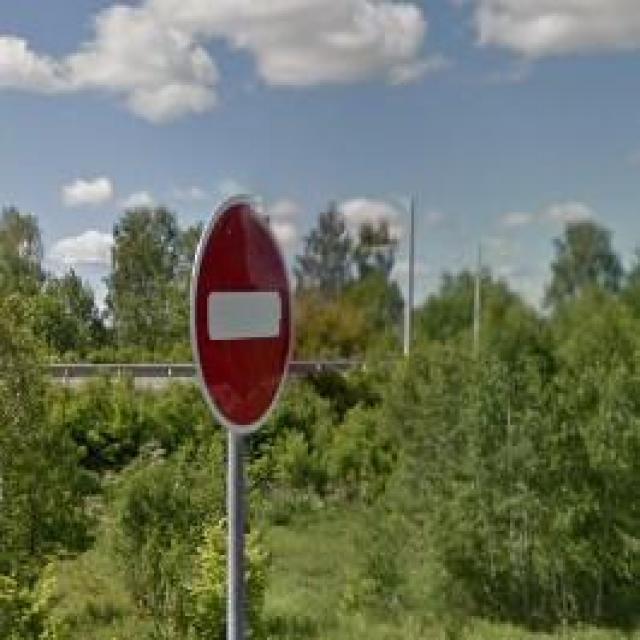traffic_sign: (188, 194, 296, 435)
